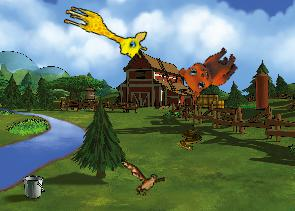bear: (173, 35, 243, 104)
eagle: (117, 158, 167, 198)
giraffe: (57, 3, 152, 62)
